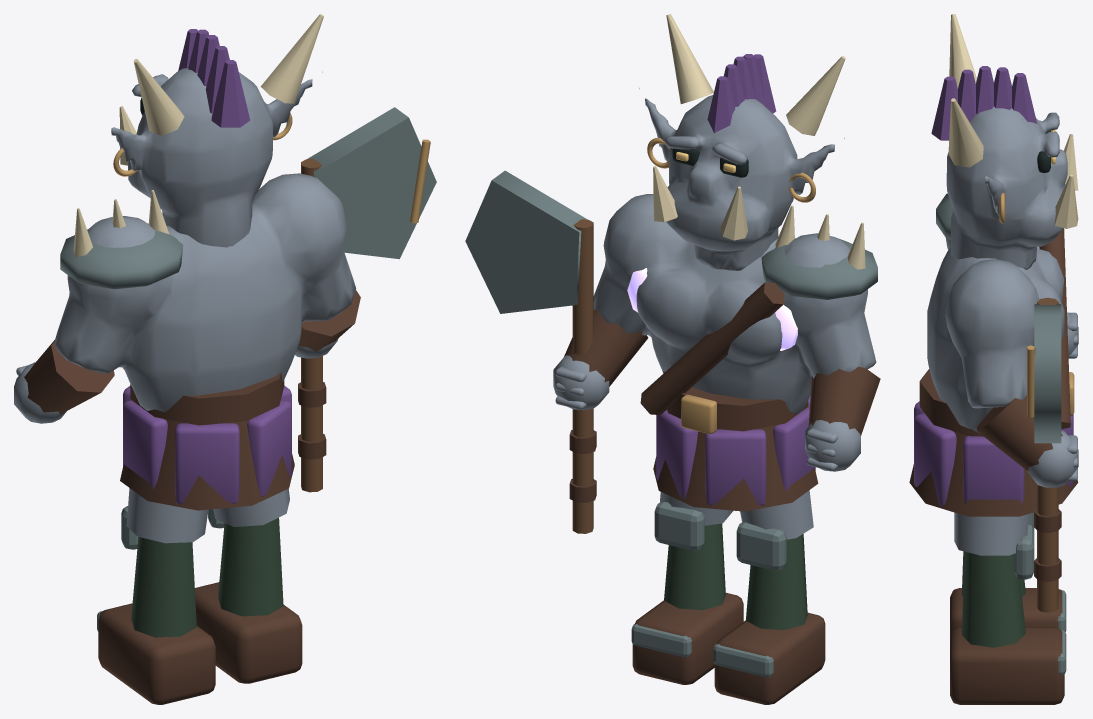
The model's file is host_44.glb.
3 views of the same model, side by side, from view 1: azimuth 30°, elevation 25°; view 2: azimuth 150°, elevation 25°; view 3: azimuth 270°, elevation 25° (orthographic). The views are drawn at different scales.
Parts seen in each view (by area): view 1: mesh_Skin.002, mesh_Iron.002, mesh_Leather.002, mesh_Cloth.043, mesh_Leather.043, mesh_Leather.001, mesh_Shadow.043, mesh_Bone.043, mesh_Shadow.001, mesh_Skin.043, mesh_Wood.043, mesh_Skin.001 (+1 smaller); view 2: mesh_Skin.002, mesh_Leather.002, mesh_Iron.002, mesh_Cloth.043, mesh_Bone.043, mesh_Leather.043, mesh_Leather.001, mesh_Wood.043, mesh_Shadow.043, mesh_Shadow.001, mesh_Iron.043, mesh_Iron.001 (+5 smaller); view 3: mesh_Skin.002, mesh_Cloth.043, mesh_Leather.002, mesh_Leather.001, mesh_Shadow.001, mesh_Iron.002, mesh_Bone.043, mesh_Skin.001, mesh_Wood.043, mesh_Leather.043, mesh_Iron.001, mesh_Copper.043 (+1 smaller).
Part boxes in pixels (left/top/right/bottom): mesh_Skin.002: left=14, top=68, right=356, bottom=423; mesh_Iron.002: left=60, top=107, right=436, bottom=289; mesh_Leather.002: left=24, top=290, right=360, bottom=510; mesh_Cloth.043: left=123, top=29, right=291, bottom=504; mesh_Leather.043: left=98, top=603, right=215, bottom=704; mesh_Leather.001: left=195, top=582, right=302, bottom=683; mesh_Shadow.043: left=131, top=537, right=196, bottom=637; mesh_Bone.043: left=73, top=14, right=323, bottom=257; mesh_Shadow.001: left=218, top=517, right=283, bottom=616; mesh_Skin.043: left=126, top=488, right=208, bottom=543; mesh_Wood.043: left=301, top=158, right=322, bottom=492; mesh_Skin.001: left=213, top=489, right=289, bottom=526; mesh_Skin.002: left=553, top=88, right=876, bottom=471; mesh_Leather.002: left=564, top=282, right=880, bottom=511; mesh_Iron.002: left=465, top=170, right=877, bottom=313; mesh_Cloth.043: left=656, top=54, right=815, bottom=505; mesh_Bone.043: left=653, top=14, right=865, bottom=269; mesh_Leather.043: left=714, top=612, right=825, bottom=704; mesh_Leather.001: left=632, top=592, right=743, bottom=684; mesh_Wood.043: left=572, top=219, right=593, bottom=533; mesh_Shadow.043: left=746, top=534, right=807, bottom=629; mesh_Shadow.001: left=664, top=523, right=725, bottom=609; mesh_Iron.043: left=713, top=522, right=786, bottom=677; mesh_Iron.001: left=631, top=502, right=704, bottom=657; mesh_Skin.002: left=927, top=106, right=1078, bottom=487; mesh_Cloth.043: left=914, top=66, right=1073, bottom=506; mesh_Leather.002: left=909, top=228, right=1078, bottom=581; mesh_Leather.001: left=950, top=627, right=1064, bottom=704; mesh_Shadow.001: left=961, top=551, right=1025, bottom=647; mesh_Iron.002: left=936, top=193, right=1061, bottom=443; mesh_Bone.043: left=948, top=14, right=1078, bottom=228; mesh_Skin.001: left=954, top=512, right=1028, bottom=555; mesh_Wood.043: left=1037, top=297, right=1058, bottom=612; mesh_Leather.043: left=950, top=588, right=1062, bottom=636; mesh_Iron.001: left=1014, top=524, right=1066, bottom=674; mesh_Copper.043: left=999, top=193, right=1074, bottom=417.
Size of the model in its own units: 1.28 by 1.96 by 0.4858.
